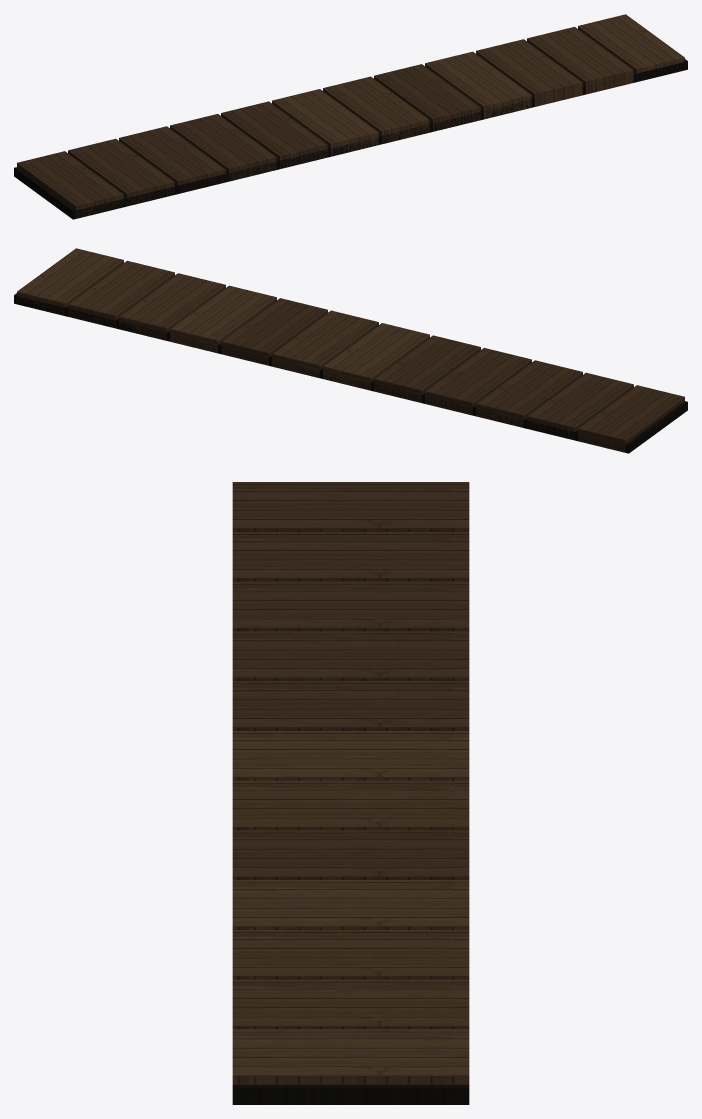
Rendered from plank_deck_01.glb.
3 renders of one model, top to bottom at view 1: azimuth 30°, elevation 25°; view 2: azimuth 150°, elevation 25°; view 3: azimuth 270°, elevation 25°, orthographic. The views are drawn at different scales.
Visible parts, largest first — view 1: plank_deck_01; view 2: plank_deck_01; view 3: plank_deck_01.
Boxes of the visible parts, x1,y1,x2,y2 form: plank_deck_01: (14, 14, 687, 219); plank_deck_01: (14, 248, 687, 453); plank_deck_01: (232, 482, 469, 1104).
Size of the model in its own units: 6 by 0.12 by 1.
Materials: 4 (4 with a texture image).
